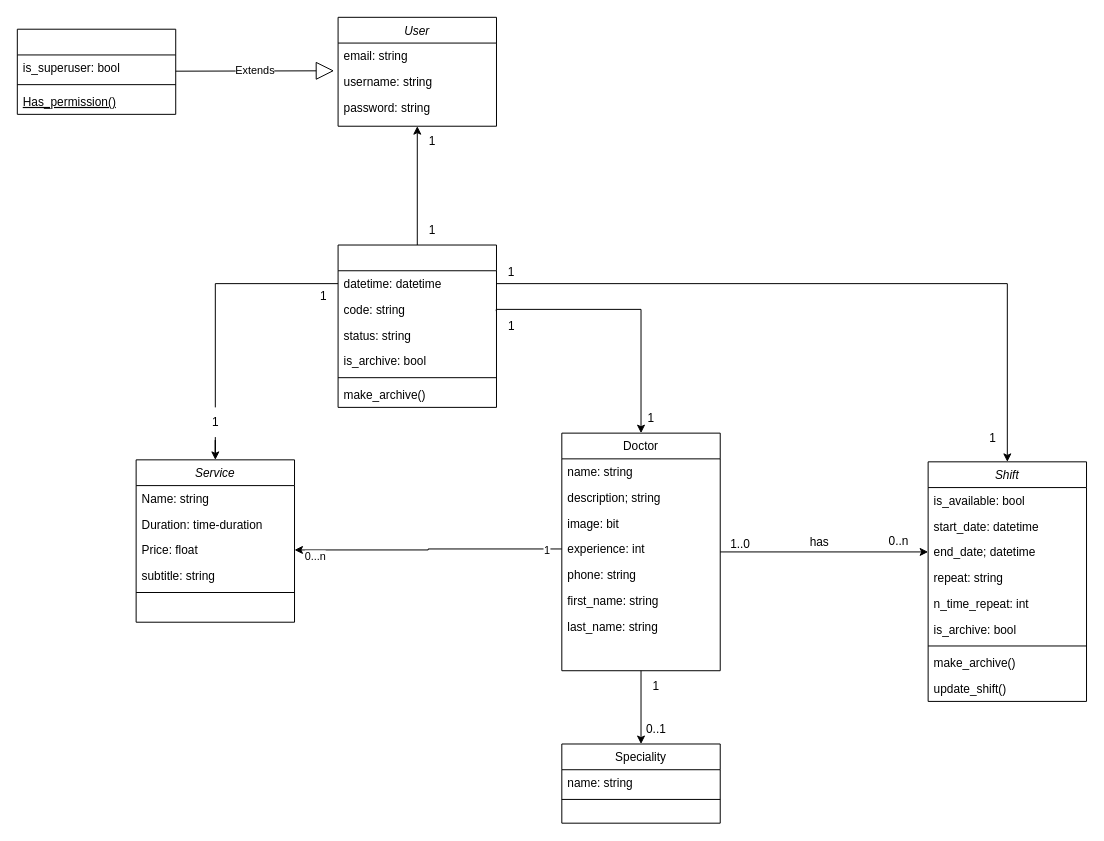
Some shapes in this 1104 by 841 pixel diagram are drawn without their labels. The shapes that lost their labels are listed below. From the top down, each one's box as (x1, y1, x2, y2) in pixels, then its label:
(16, 28, 176, 114): Admin
(337, 244, 496, 407): Reservation
